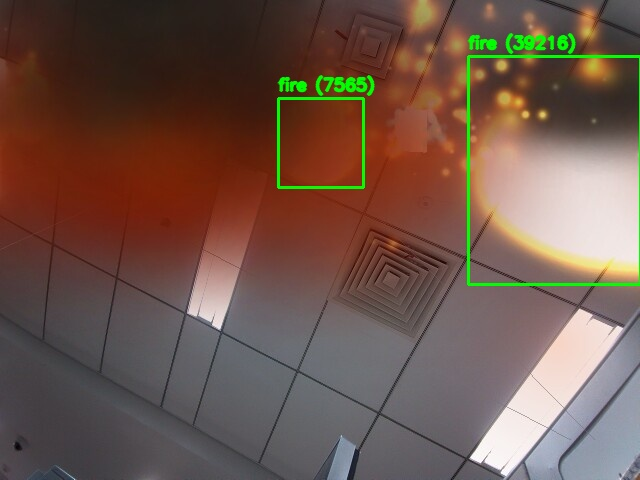fire: (468, 56, 640, 284), (278, 98, 363, 187)
